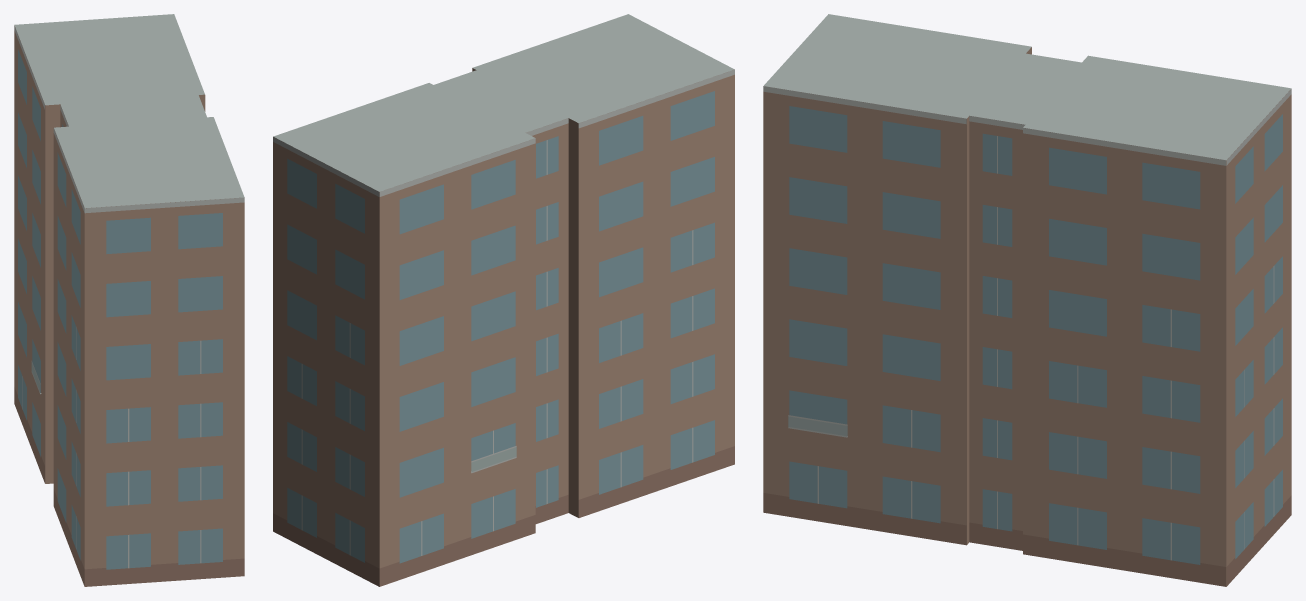
File: survey-upis-32664083.glb
3 renders of one model, left to right at view 1: azimuth 30°, elevation 25°; view 2: azimuth 150°, elevation 25°; view 3: azimuth 270°, elevation 25°, orthographic. The views are drawn at different scales.
Parts seen in each view (by area): view 1: survey-upis-32664083.tmp; view 2: survey-upis-32664083.tmp; view 3: survey-upis-32664083.tmp.
Part boxes in pixels (left/top/right/bottom): survey-upis-32664083.tmp: left=14, top=14, right=244, bottom=586; survey-upis-32664083.tmp: left=273, top=14, right=734, bottom=586; survey-upis-32664083.tmp: left=763, top=14, right=1291, bottom=586.
Bounding box in the file's own units: 13.54 × 18.4 × 20.66.
